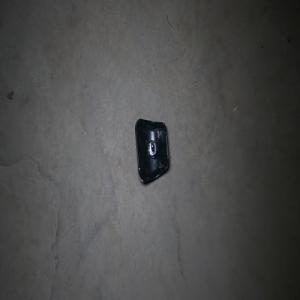LuggagePart: (134, 117, 169, 184)
